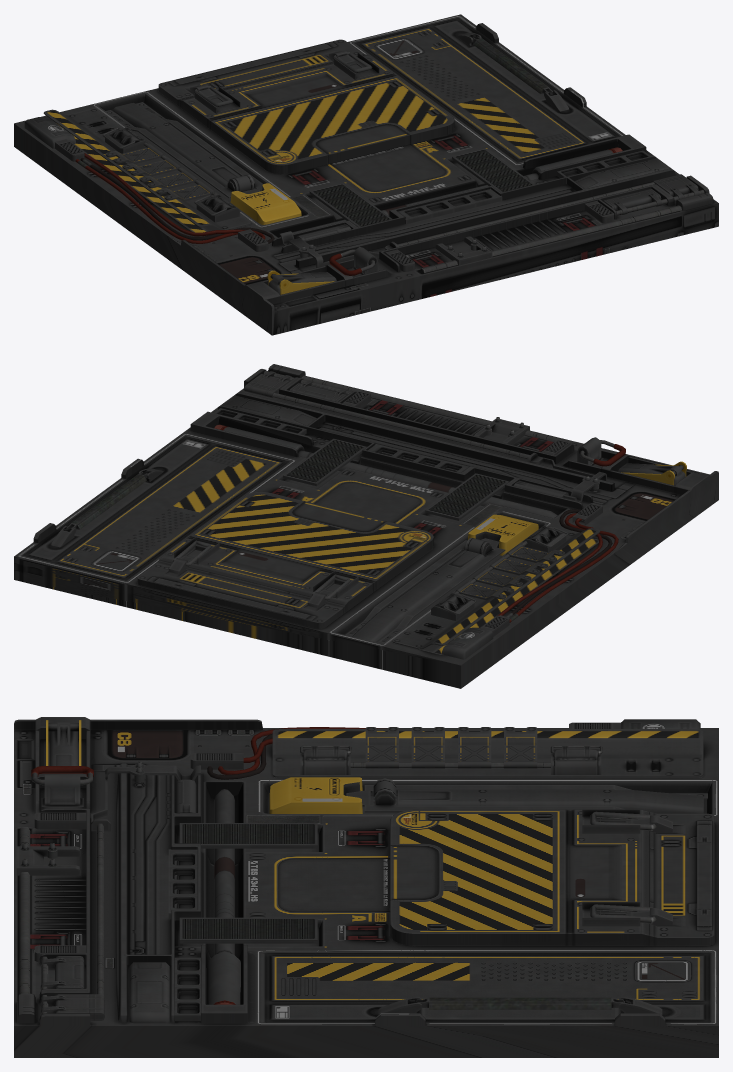
The model's file is Wall_4x4_L1.FBX.
The picture shows the model from 3 angles, top to bottom: view 1: azimuth 30°, elevation 25°; view 2: azimuth 150°, elevation 25°; view 3: azimuth 270°, elevation 25°; orthographic projection. The views are drawn at different scales.
Parts seen in each view (by area): view 1: Wall_4x4_L1; view 2: Wall_4x4_L1; view 3: Wall_4x4_L1.
Part boxes in pixels (box(x1,y1,x2,y2)): Wall_4x4_L1: box(14, 14, 718, 335); Wall_4x4_L1: box(14, 364, 718, 688); Wall_4x4_L1: box(14, 717, 718, 1057).
Size of the model in its own units: 400 by 37.5 by 400.
